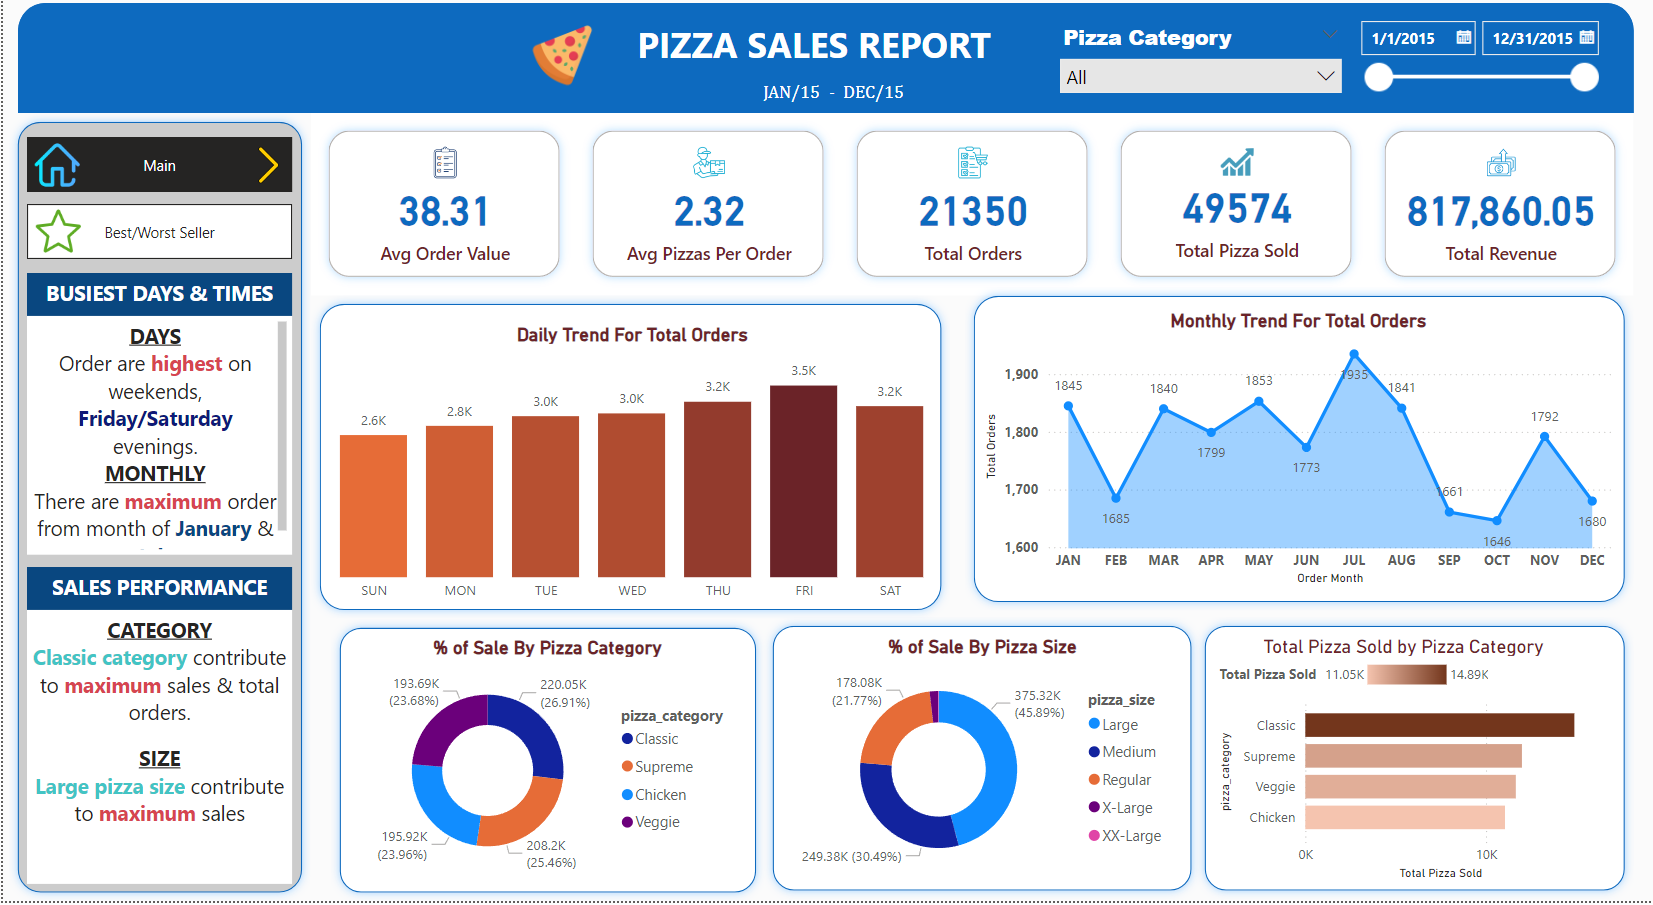

What the dashboard file says about the page in this screenshot:
{"tool":"powerbi","page":{"name":"Main","canvas":[1500,820],"ordinal":0},"visuals":[{"type":"cardVisual","fields":{"Data":["pizza_sales.Avg Order Value","pizza_sales.Avg Pizzas Per Order","pizza_sales.Total Orders","pizza_sales.Total Pizza Sold","pizza_sales.Total Revenue"]},"box":[280,103.3,1202.2,165.6],"z":0},{"type":"shape","box":[13.3,3.3,1468.9,100],"z":1000},{"type":"textbox","box":[552.2,13.3,371.1,56.7],"z":2000},{"type":"textbox","box":[671.1,70,167.8,30],"z":3000},{"type":"image","box":[465.6,17.8,86.7,65.6],"z":4000},{"type":"shape","box":[280,268.9,581.1,294.4],"z":5000},{"type":"columnChart","title":"Daily Trend For Total Orders","fields":{"Category":["pizza_sales.Order Day"],"Y":["pizza_sales.Total Orders"]},"box":[270,294.4,604.4,261.1],"z":6000},{"type":"shape","box":[874.4,262.2,607.8,294.4],"z":7000},{"type":"areaChart","title":"Monthly Trend For Total Orders","fields":{"Category":["pizza_sales.Order Month"],"Y":["pizza_sales.Total Orders"]},"box":[887.8,282.2,578.9,255.6],"z":8000},{"type":"shape","box":[297.8,563.3,394.4,256.7],"z":9000},{"type":"shape","box":[692.2,562.2,396.7,256.7],"z":10000},{"type":"shape","box":[1084.4,562.2,397.8,256.7],"z":11000},{"type":"donutChart","title":"% of Sale By Pizza Category","fields":{"Category":["pizza_sales.pizza_category"],"Y":["pizza_sales.Total Revenue"]},"box":[314.4,578.9,361.1,225.6],"z":12000},{"type":"donutChart","title":"% of Sale By Pizza Size","fields":{"Category":["pizza_sales.pizza_size"],"Y":["pizza_sales.Total Revenue"]},"box":[710,577.8,361.1,225.6],"z":13000},{"type":"clusteredBarChart","title":"Total Pizza Sold by Pizza Category","fields":{"Category":["pizza_sales.pizza_category"],"Y":["pizza_sales.Total Pizza Sold"]},"box":[1101.1,577.8,344.4,226.7],"z":14000},{"type":"shape","box":[5.6,103.3,274.4,716.7],"z":15000},{"type":"textbox","box":[22.2,248.9,241.1,38.9],"z":16000},{"type":"textbox","box":[22.2,287.8,241.1,216.7],"z":17000},{"type":"textbox","box":[22.2,516.7,241.1,38.9],"z":18000},{"type":"textbox","box":[22.2,555.6,241.1,248.9],"z":19000},{"type":"slicer","fields":{"Values":["pizza_sales.pizza_category"]},"box":[951.1,15.6,275.6,74.4],"z":20000},{"type":"slicer","fields":{"Values":["pizza_sales.order_date"]},"box":[1222.2,10,236.7,85.6],"z":21000},{"type":"pageNavigator","box":[22.2,125.6,241.1,50],"z":21001},{"type":"pageNavigator","box":[22.2,186.7,241.1,50],"z":21002},{"type":"image","box":[220,125.6,43.3,51.1],"z":21003},{"type":"image","box":[22.2,125.6,54.4,51.1],"z":21004},{"type":"image","box":[22.2,185.6,56.7,51.1],"z":21005}]}

Visuals, with their boxes in screenshot pixels (x1, y1, x2, y2), scaled from the page's 1500x820 canvas onto the 1653x905 screenshot:
cardVisual - pizza_sales.Avg Order Value x pizza_sales.Avg Pizzas Per Order: {"left": 309, "top": 114, "right": 1633, "bottom": 297}
shape: {"left": 15, "top": 4, "right": 1633, "bottom": 114}
textbox: {"left": 609, "top": 15, "right": 1017, "bottom": 77}
textbox: {"left": 740, "top": 77, "right": 924, "bottom": 110}
image: {"left": 513, "top": 20, "right": 609, "bottom": 92}
shape: {"left": 309, "top": 297, "right": 949, "bottom": 622}
"Daily Trend For Total Orders" columnChart: {"left": 298, "top": 325, "right": 964, "bottom": 613}
shape: {"left": 964, "top": 289, "right": 1633, "bottom": 614}
"Monthly Trend For Total Orders" areaChart: {"left": 978, "top": 311, "right": 1616, "bottom": 594}
shape: {"left": 328, "top": 622, "right": 763, "bottom": 904}
shape: {"left": 763, "top": 620, "right": 1200, "bottom": 904}
shape: {"left": 1195, "top": 620, "right": 1633, "bottom": 904}
"% of Sale By Pizza Category" donutChart: {"left": 346, "top": 639, "right": 744, "bottom": 888}
"% of Sale By Pizza Size" donutChart: {"left": 782, "top": 638, "right": 1180, "bottom": 887}
"Total Pizza Sold by Pizza Category" clusteredBarChart: {"left": 1213, "top": 638, "right": 1593, "bottom": 888}
shape: {"left": 6, "top": 114, "right": 309, "bottom": 904}
textbox: {"left": 24, "top": 275, "right": 290, "bottom": 318}
textbox: {"left": 24, "top": 318, "right": 290, "bottom": 557}
textbox: {"left": 24, "top": 570, "right": 290, "bottom": 613}
textbox: {"left": 24, "top": 613, "right": 290, "bottom": 888}
slicer - pizza_sales.pizza_category: {"left": 1048, "top": 17, "right": 1352, "bottom": 99}
slicer - pizza_sales.order_date: {"left": 1347, "top": 11, "right": 1608, "bottom": 106}
pageNavigator: {"left": 24, "top": 139, "right": 290, "bottom": 194}
pageNavigator: {"left": 24, "top": 206, "right": 290, "bottom": 261}
image: {"left": 242, "top": 139, "right": 290, "bottom": 195}
image: {"left": 24, "top": 139, "right": 84, "bottom": 195}
image: {"left": 24, "top": 205, "right": 87, "bottom": 261}
